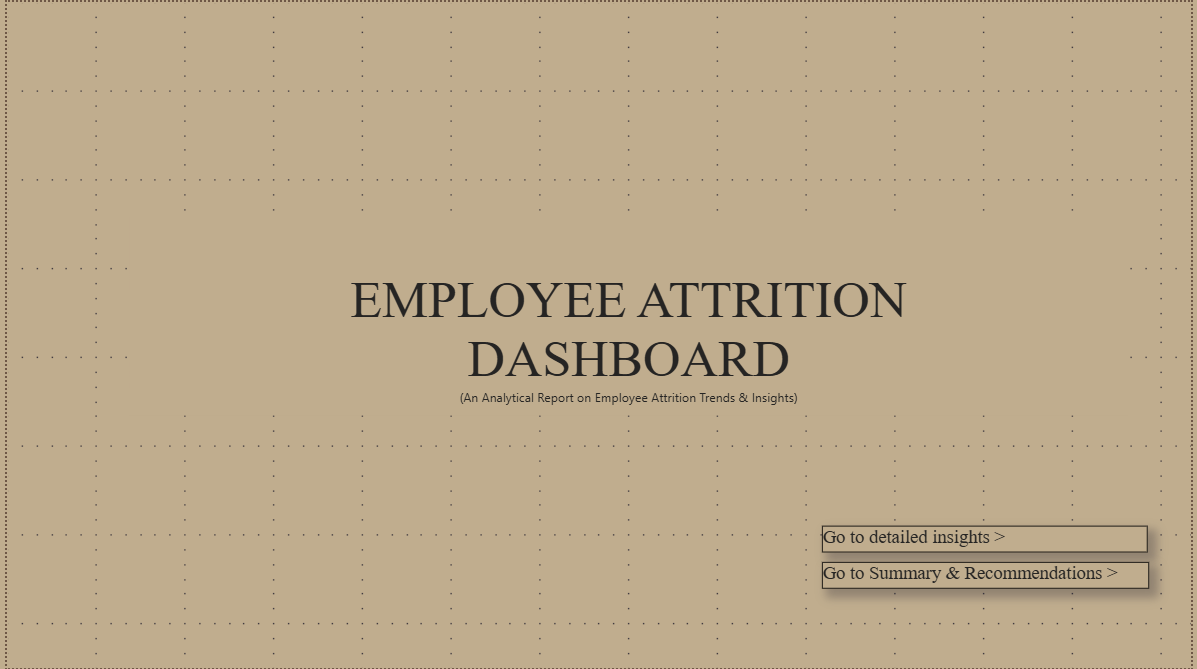

The dashboard page shown, as its layout file describes it:
{"tool":"powerbi","page":{"name":"Page 1","canvas":[1280,720],"ordinal":0},"visuals":[{"type":"textbox","box":[132.5,232.5,1079.2,214.3],"z":0},{"type":"actionButton","title":"Go to detailed insights >","box":[880.5,566.2,351.9,28.6],"z":1000},{"type":"actionButton","title":"Go to Summary & Recommendations >","box":[880.5,605.2,353.2,28.6],"z":2000}]}

Visuals, with their boxes in screenshot pixels (x1, y1, x2, y2), scaled from the page's 1280x720 canvas onto the 1197x669 screenshot:
textbox: bbox=[124, 216, 1133, 415]
"Go to detailed insights >" actionButton: bbox=[823, 526, 1152, 553]
"Go to Summary & Recommendations >" actionButton: bbox=[823, 562, 1154, 589]
